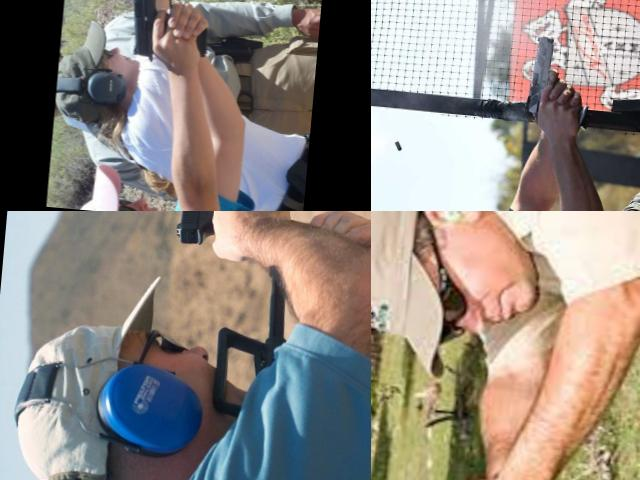handgun: (520, 30, 596, 132), (117, 0, 218, 66), (173, 211, 253, 266), (103, 0, 165, 17)
